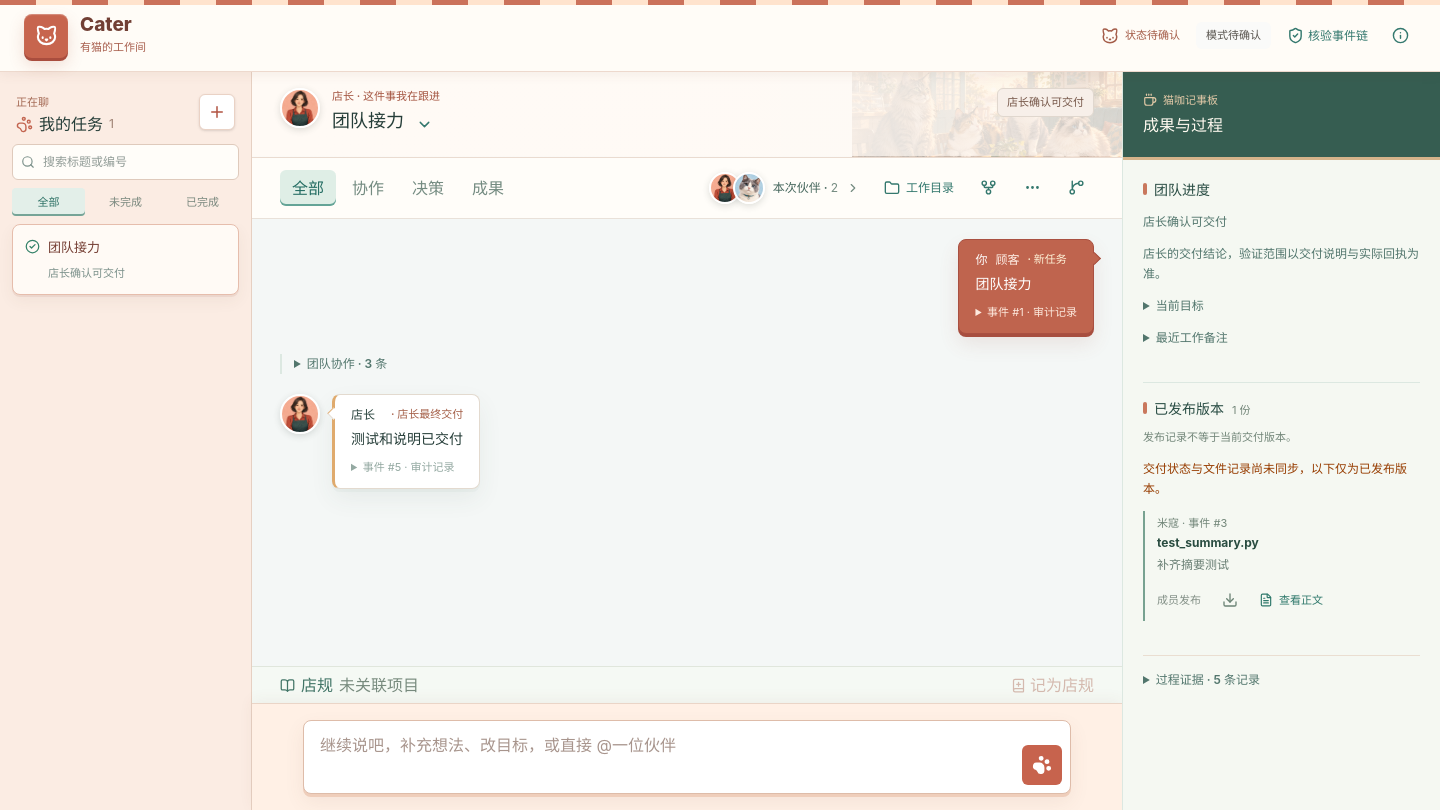
native 发布文件归入连续团队过程，成果板与成果筛选保留入口：{"phase":"team","source":"team"}
This screenshot has width=1440, height=810.
Expected: the element "团队进度" is shown, [1143,180,1420,362]
Expected: the text "· 店长最终交付" is shown once, [391,407,463,422]
What coordinates should you click on to do the following:
click the button "查看正文"
I would click on:
 (1291, 600)
Its box is [1259,592,1323,608].
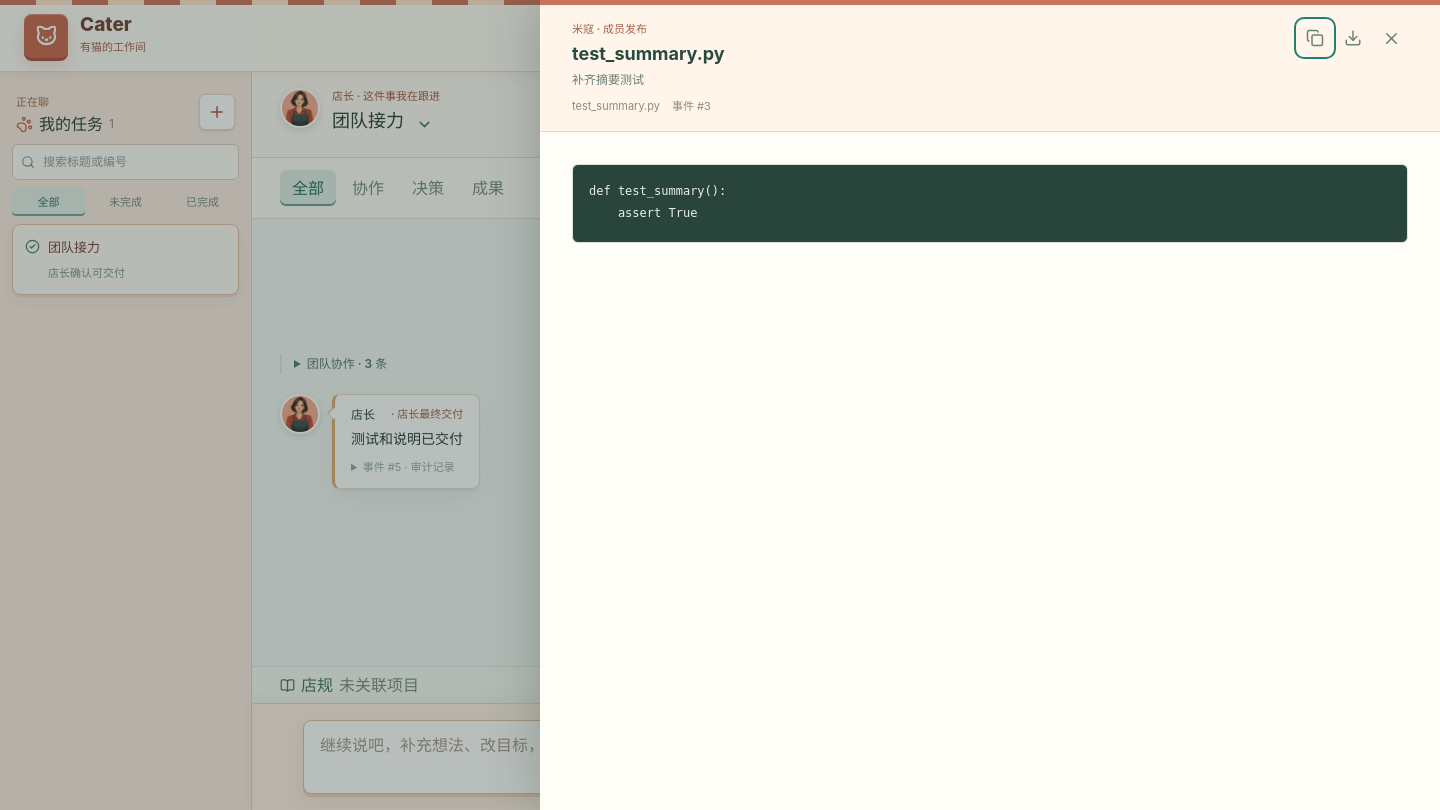
Now the text "def test_summary(): assert True" is shown, box [589,184,726,220]
What coordinates should you click on to do the following:
click the button named "关闭成果正文"
I would click on:
 (1391, 38)
Its box is [1374,21,1408,55].
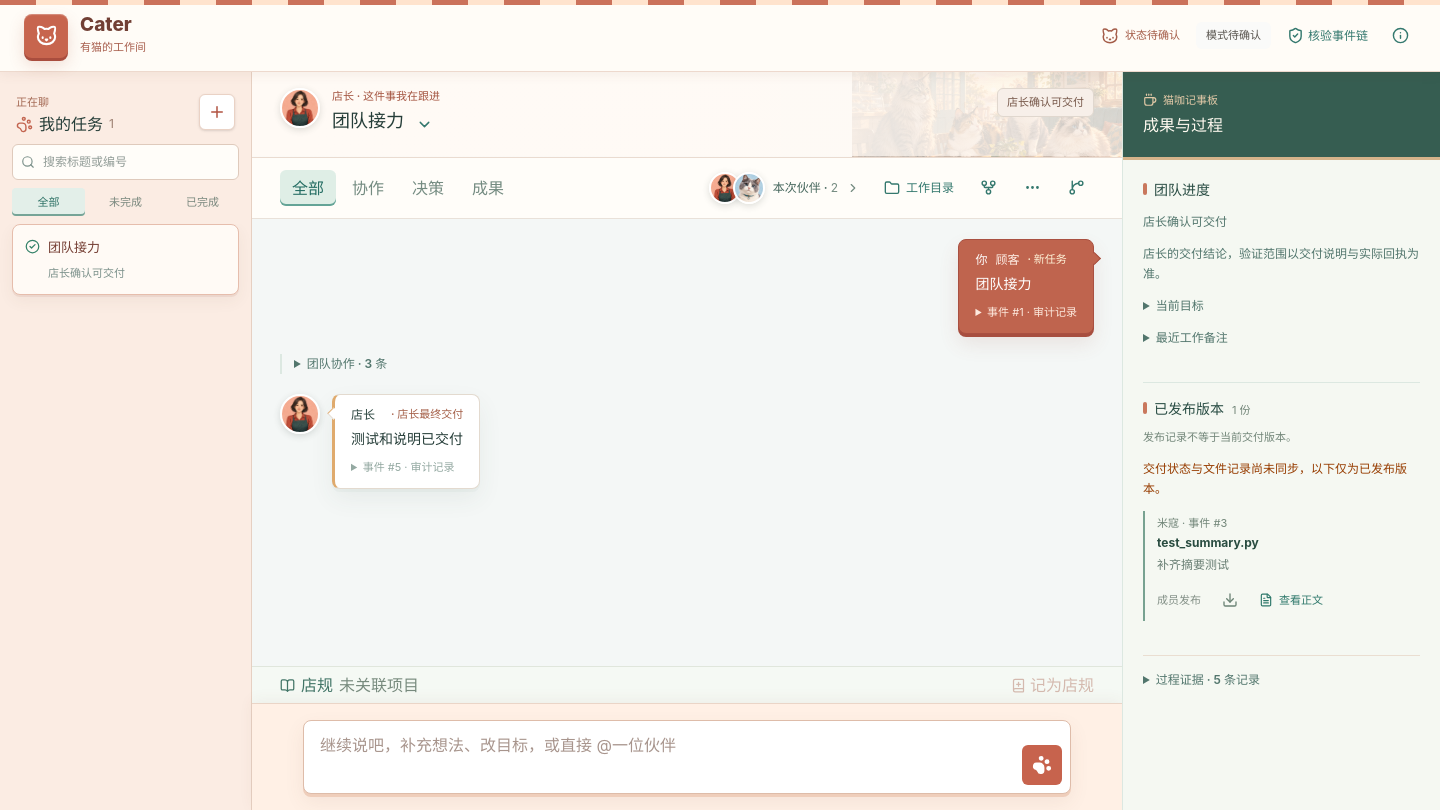
What coordinates should you click on to do the following:
click the button "成果"
I would click on:
 (488, 188)
Its box is [460,170,516,206].
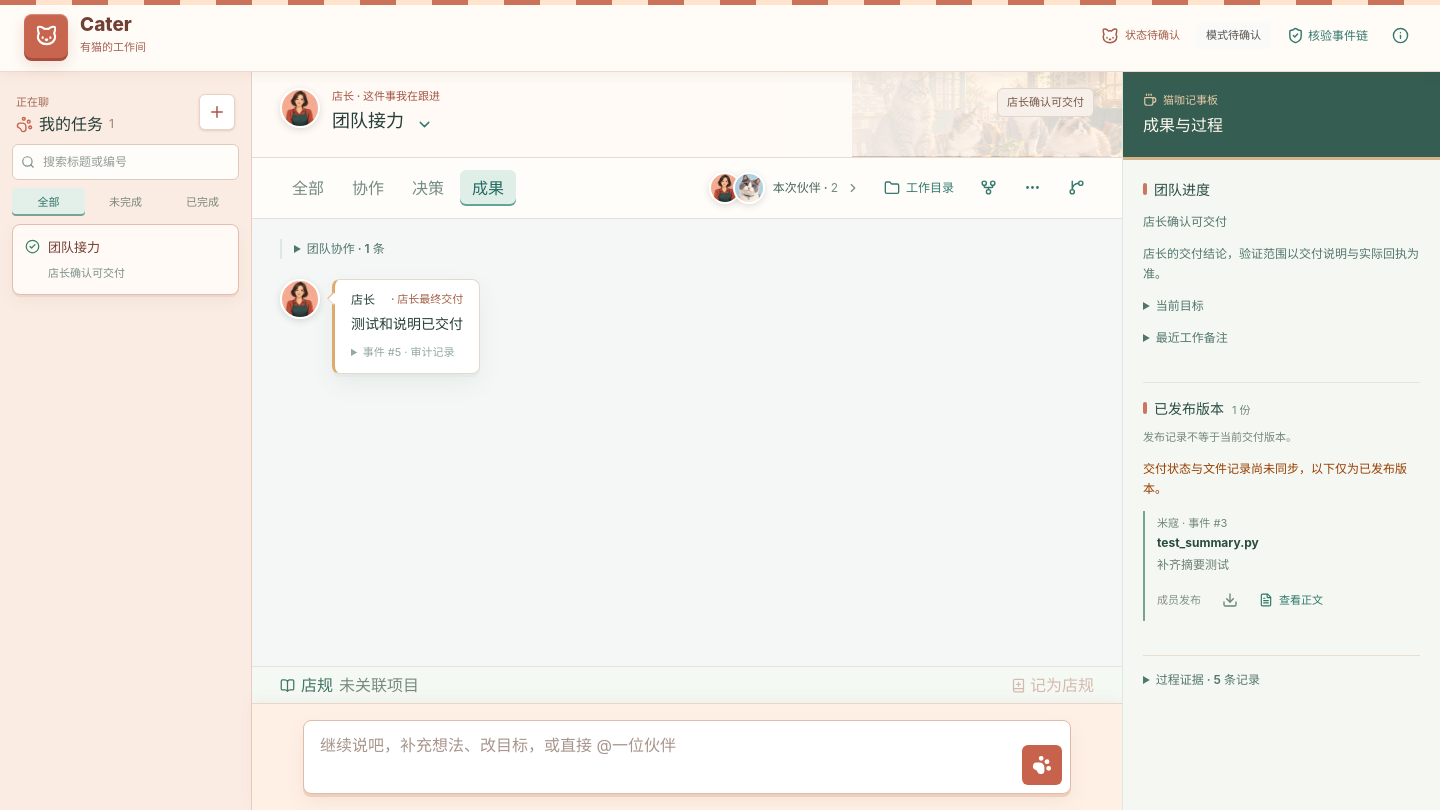
What coordinates should you click on to do the following:
click the heading "团队协作 · 1 条"
I would click on:
 (346, 248)
Its box is [307,240,385,256].
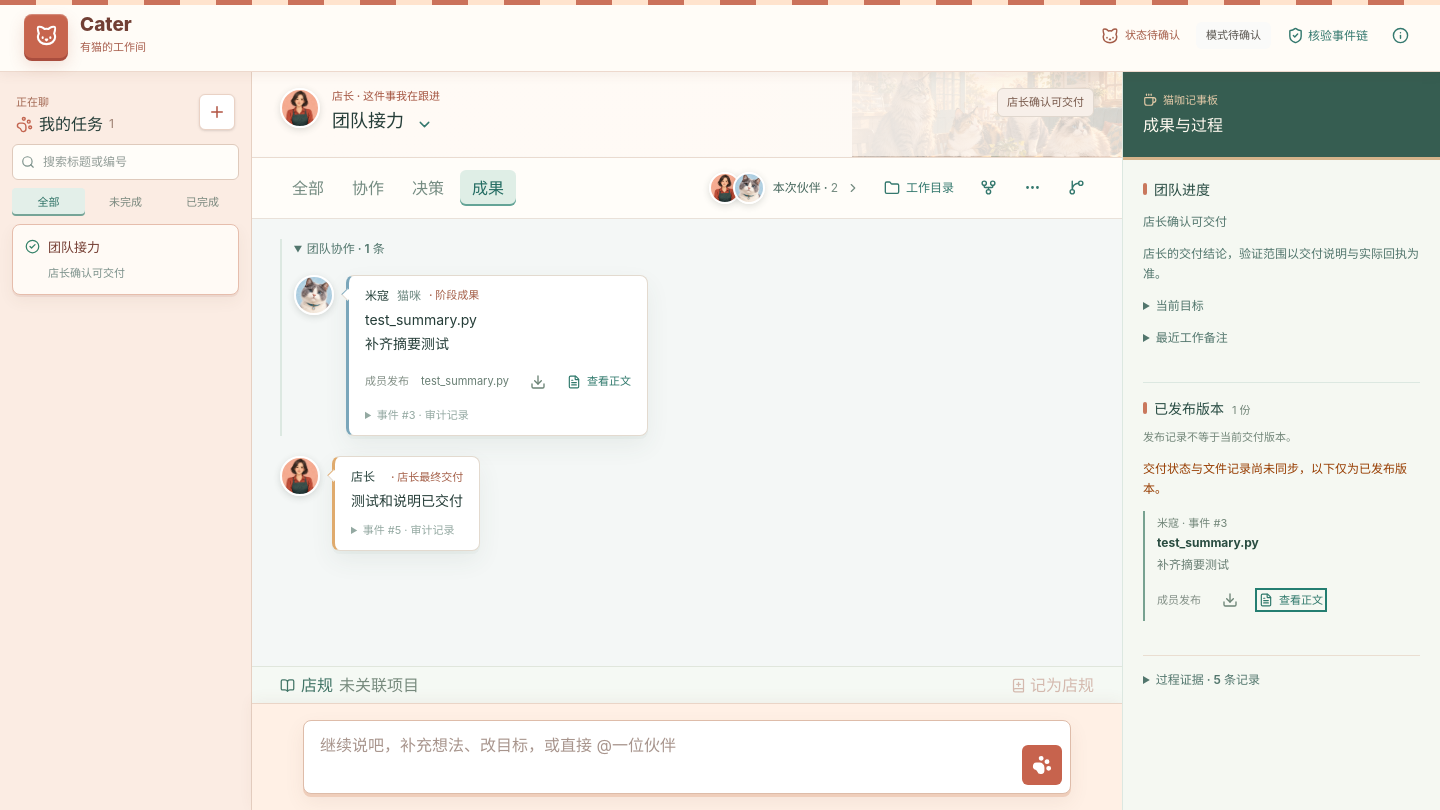
Now the text "· 阶段成果" is shown, box [429,288,479,303]
Now the button "查看正文" below "猫咪" is shown, box [567,373,631,390]
